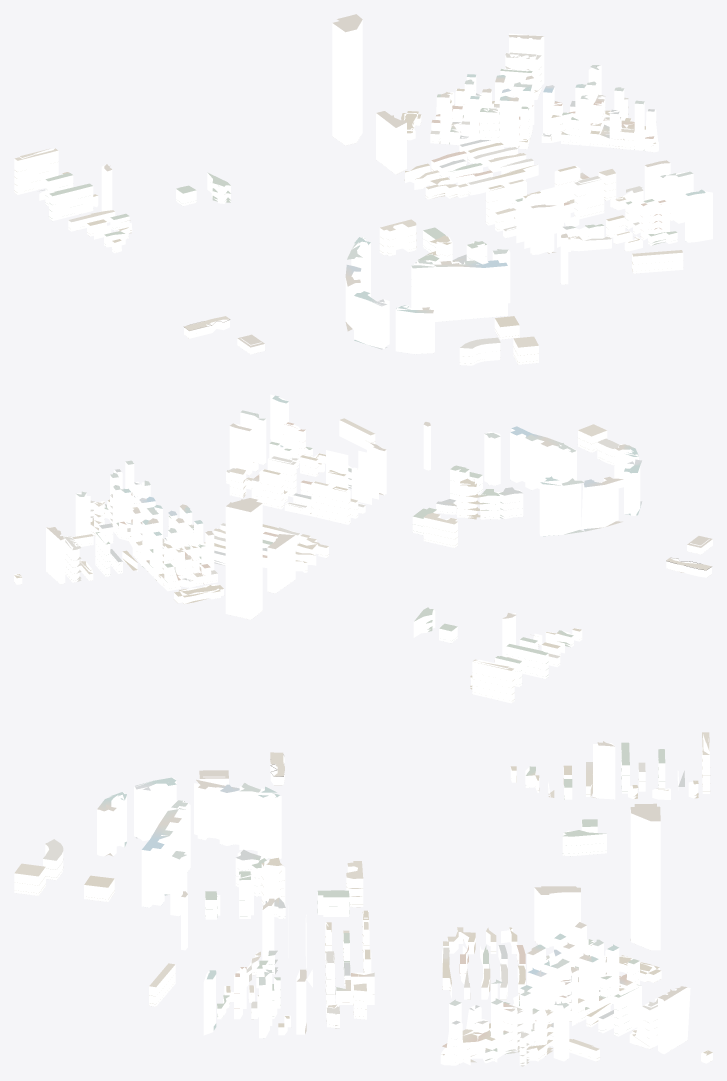
The model's file is buildings-4_-1-coarse.glb.
3 views of the same model, one above another, from view 1: azimuth 30°, elevation 25°; view 2: azimuth 150°, elevation 25°; view 3: azimuth 270°, elevation 25° (orthographic). The views are drawn at different scales.
Parts seen in each view (by area): view 1: block_4_-1_residential, block_4_-1_office, block_4_-1_roof; view 2: block_4_-1_office, block_4_-1_residential, block_4_-1_roof; view 3: block_4_-1_office, block_4_-1_residential, block_4_-1_roof.
Boxes of the visible parts, x1,y1,x2,y2 form: block_4_-1_residential: [14, 52, 683, 365]; block_4_-1_office: [101, 20, 712, 354]; block_4_-1_roof: [14, 14, 705, 363]; block_4_-1_office: [46, 394, 712, 657]; block_4_-1_residential: [14, 420, 711, 703]; block_4_-1_roof: [14, 395, 712, 700]; block_4_-1_office: [97, 743, 690, 1061]; block_4_-1_residential: [14, 734, 712, 1065]; block_4_-1_roof: [14, 732, 712, 1066].
Bounding box in the file's own units: 669 × 138 × 646.
